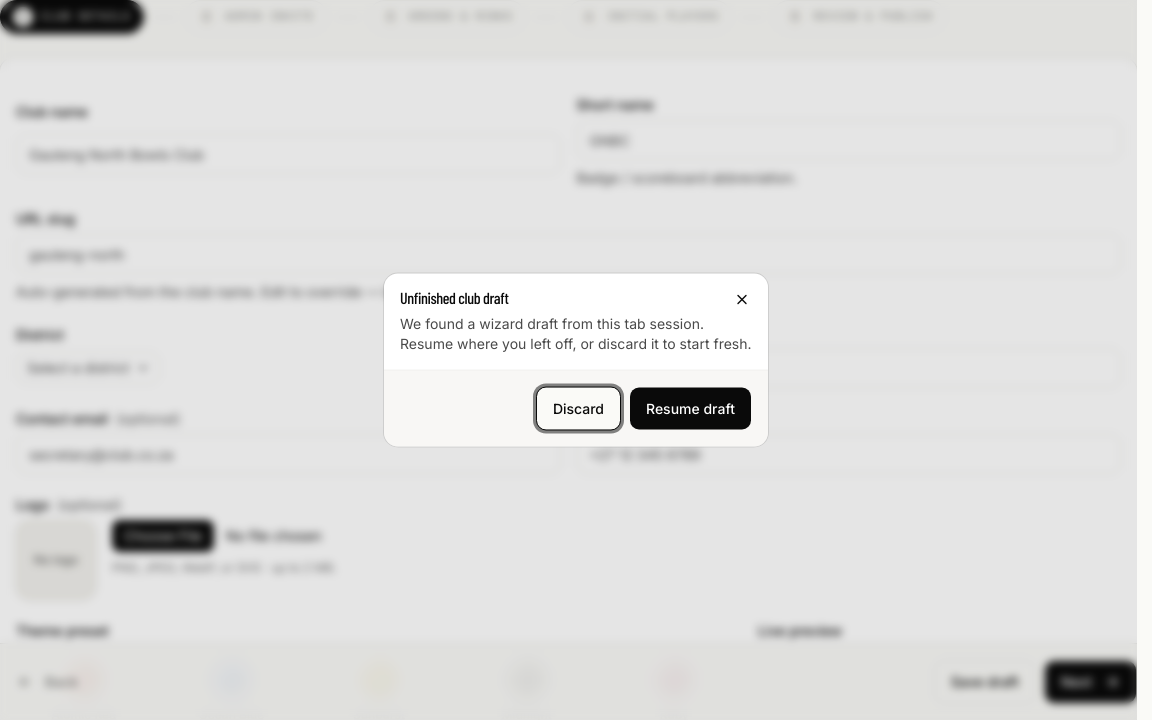
Scenario: NewClubWizard › Discard removes the draft from storage and exits the dialog
Expected: the dialog with test id "wizard-draft-dialog" is shown, [384, 274, 768, 446]
Click the button with test id "wizard-draft-discard" at (578, 408), box [536, 386, 621, 430]
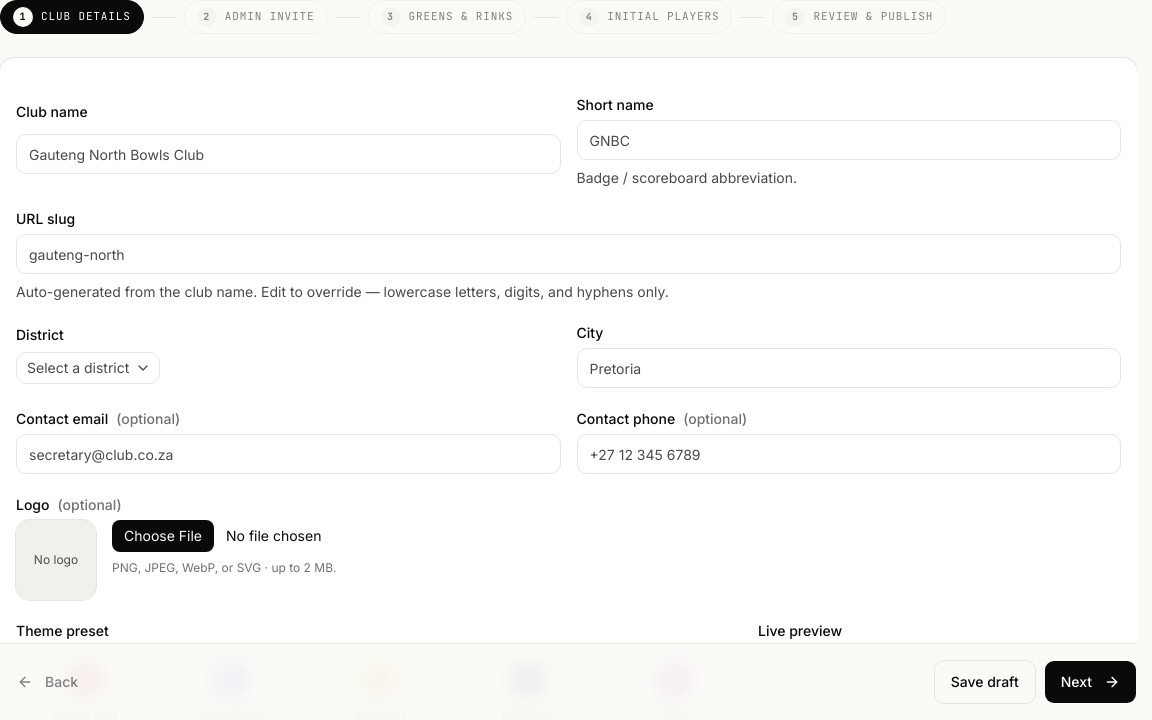
Expected: the dialog with test id "wizard-draft-dialog" is gone
